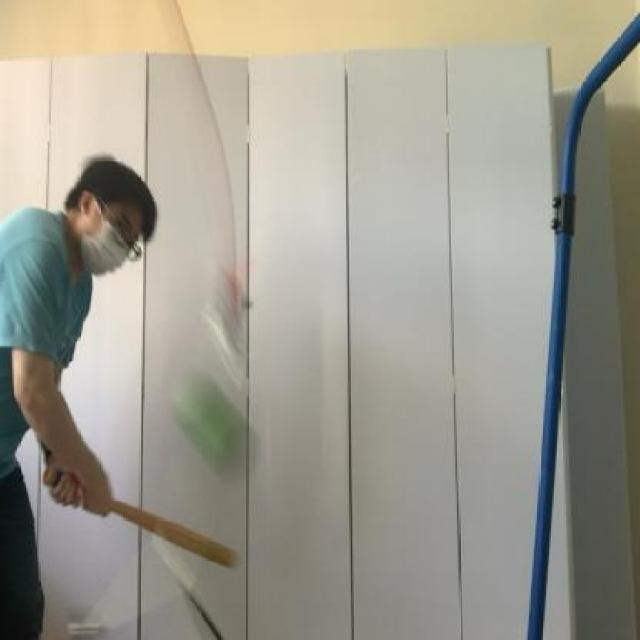baseball: (169, 367, 262, 488)
